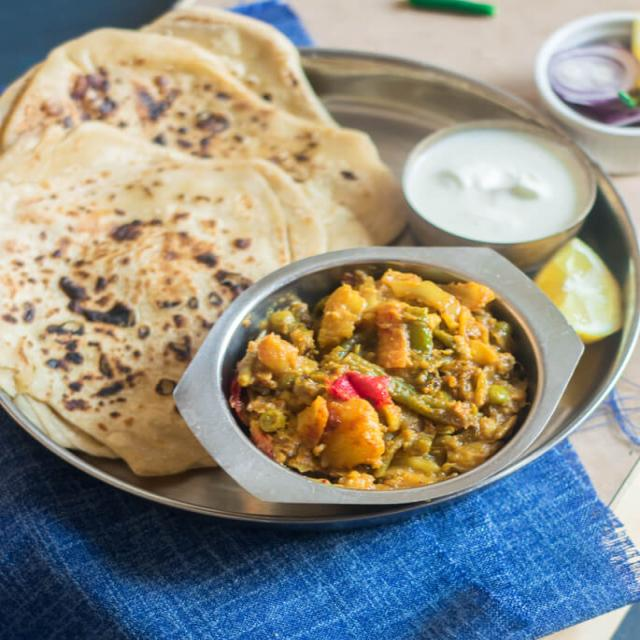chapathi: (3, 0, 378, 459)
